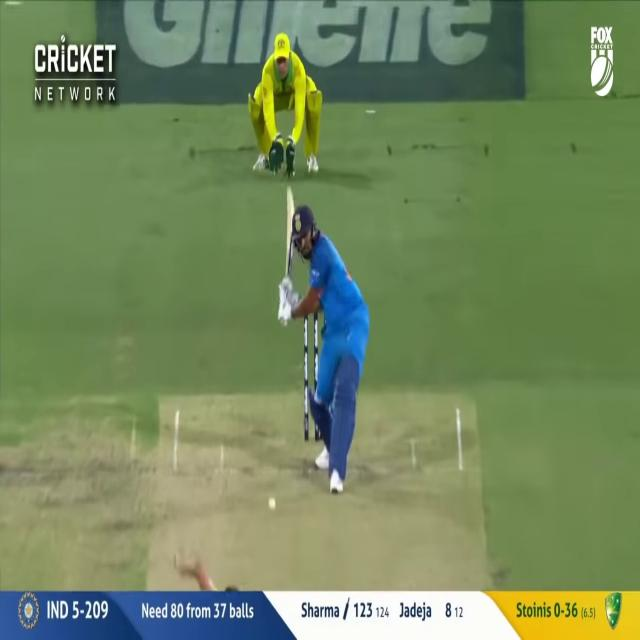ball: (268, 495, 276, 510)
stump: (304, 307, 326, 441), (310, 346, 323, 439)
